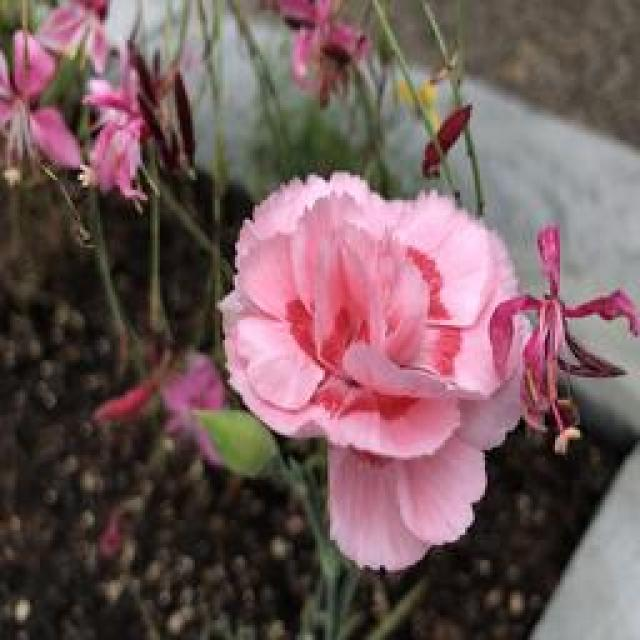carnation: (206, 158, 561, 542)
